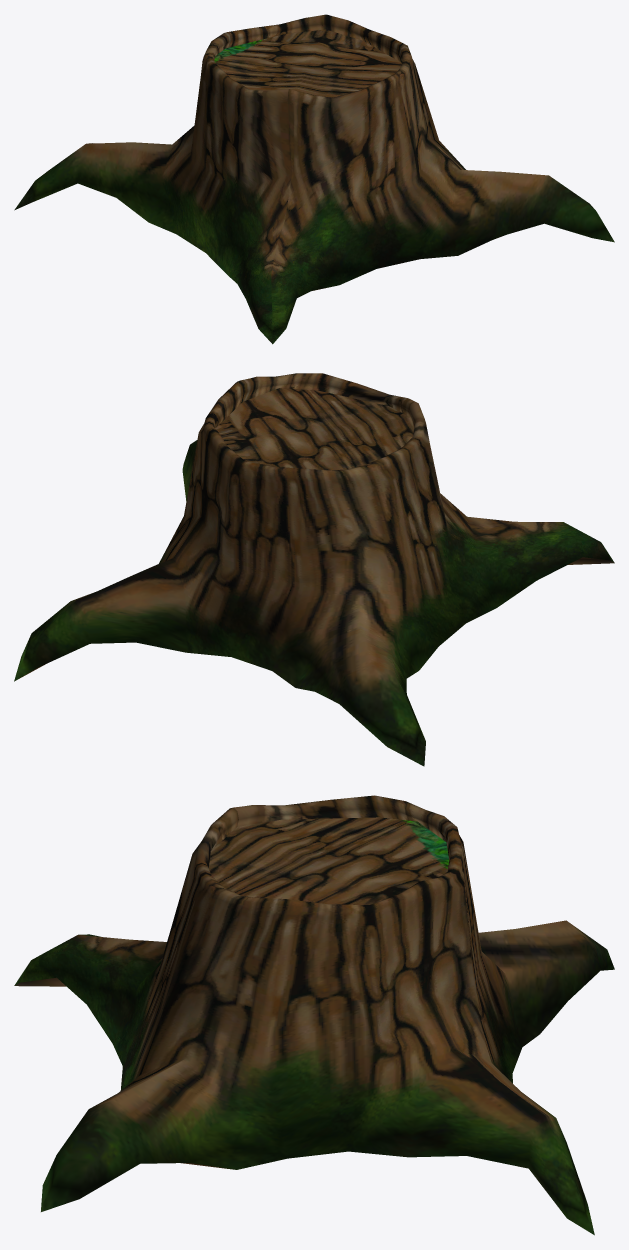
The model's file is TreeStump1Shape.dae.
3 views of the same model, one above another, from view 1: azimuth 30°, elevation 25°; view 2: azimuth 150°, elevation 25°; view 3: azimuth 270°, elevation 25° (orthographic). The views are drawn at different scales.
Visible parts, largest first — view 1: TreeStump1; view 2: TreeStump1; view 3: TreeStump1.
Part boxes in pixels (<box>): TreeStump1: <box>14,14,614,344</box>; TreeStump1: <box>14,373,614,766</box>; TreeStump1: <box>14,795,614,1235</box>.
Bounding box in the file's own units: 3.68 × 1.78 × 3.45.
